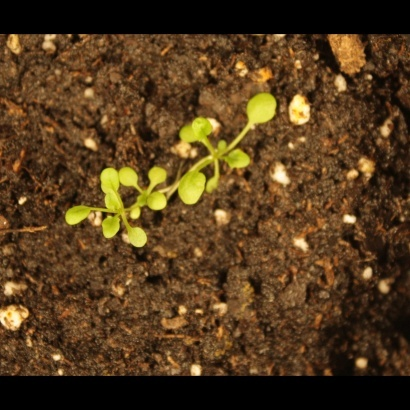leaf: (241, 87, 280, 130), (176, 165, 208, 208), (223, 144, 260, 178), (58, 201, 96, 229), (97, 214, 129, 246), (175, 117, 206, 150), (123, 222, 156, 252), (94, 166, 122, 195), (94, 190, 125, 215), (189, 113, 217, 139), (144, 162, 171, 186), (117, 164, 140, 189), (204, 169, 229, 192), (146, 191, 169, 214)
